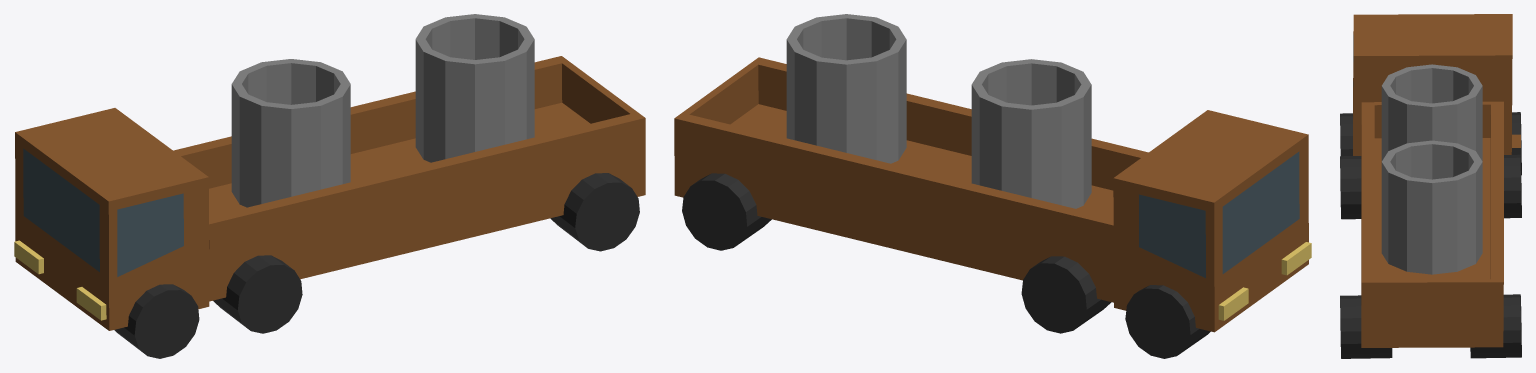
The model's file is LKW_with_pipes.glb.
3 views of the same model, side by side, from view 1: azimuth 30°, elevation 25°; view 2: azimuth 150°, elevation 25°; view 3: azimuth 270°, elevation 25° (orthographic). The views are drawn at different scales.
Visible parts, largest first — view 1: Cylinder, Cylinder.002, Cylinder.001; view 2: Cylinder, Cylinder.002, Cylinder.001; view 3: Cylinder, Cylinder.002, Cylinder.001.
Boxes of the visible parts, bbox=[...] form: Cylinder: bbox=[14, 56, 645, 358]; Cylinder.002: bbox=[415, 14, 534, 162]; Cylinder.001: bbox=[231, 59, 350, 207]; Cylinder: bbox=[674, 57, 1311, 358]; Cylinder.002: bbox=[786, 14, 906, 163]; Cylinder.001: bbox=[971, 59, 1091, 208]; Cylinder: bbox=[1340, 14, 1521, 358]; Cylinder.002: bbox=[1381, 140, 1482, 274]; Cylinder.001: bbox=[1381, 64, 1482, 161].
Bounding box in the file's own units: 10.61 × 3.53 × 3.6.
